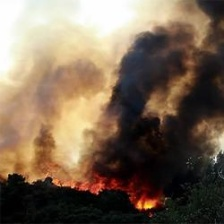fire: (41, 159, 172, 215)
smoke: (2, 5, 224, 151)
